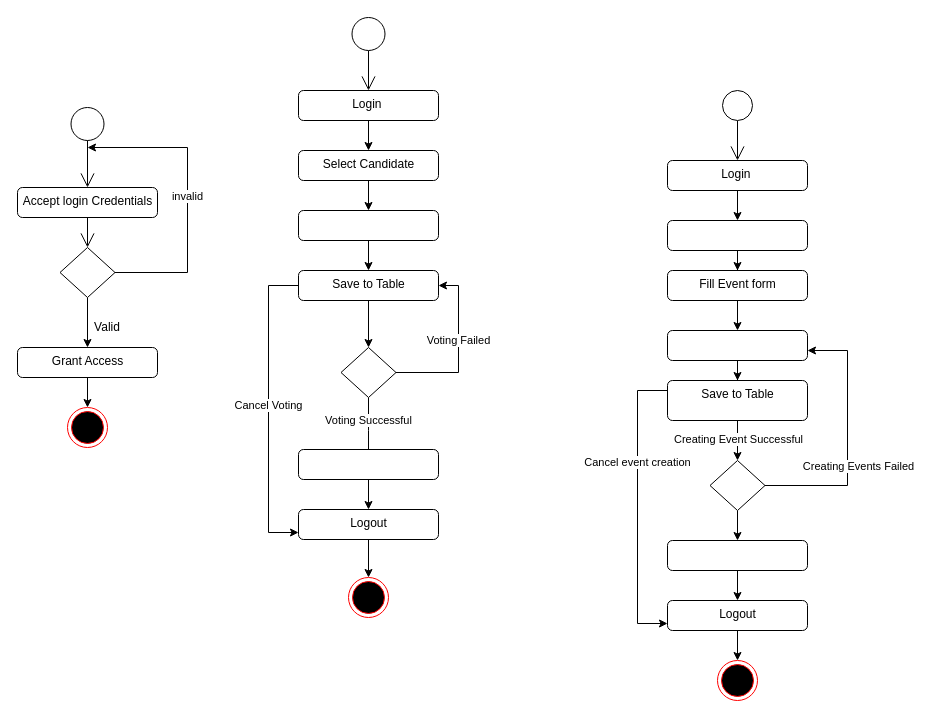
Some shapes in this 931 by 718 pixel diagram are drawn without their labels. The centre of each missing label's shape, as x and y in pixels:
Cast Vote: (368,225)
Click create Event: (737,235)
Display All Events: (737,555)
Publish Vote: (368,464)
Submit form: (737,345)
